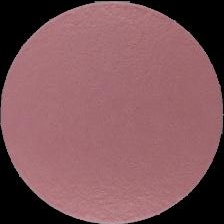43353-756: (0, 0, 224, 224)
